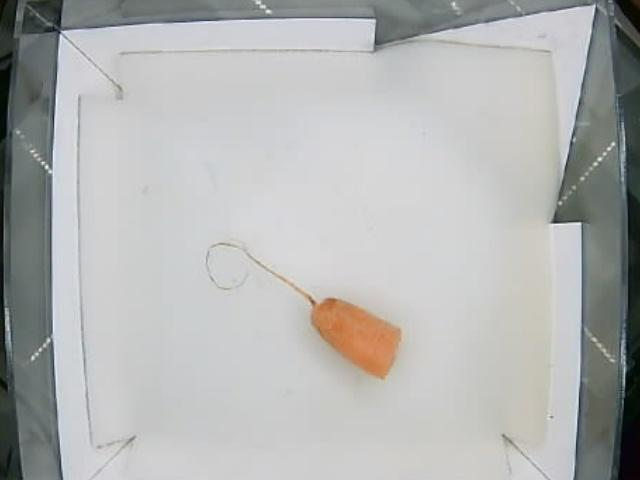Carrot: (306, 292, 404, 381)
